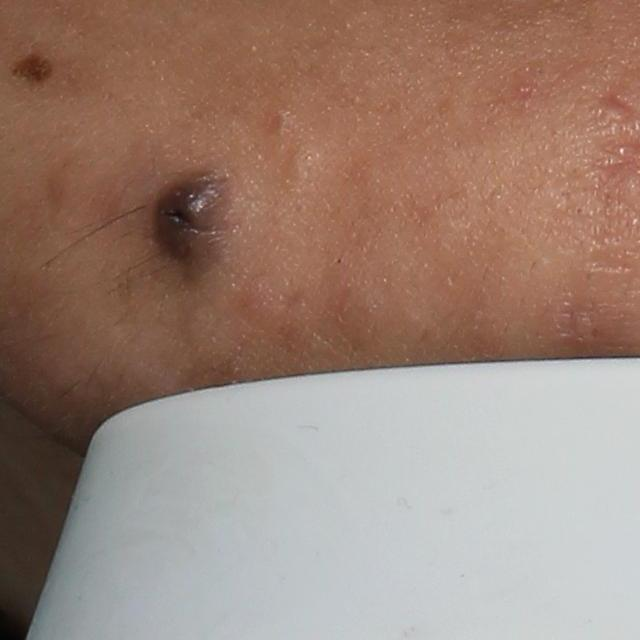nevus: (132, 167, 233, 280), (1, 49, 61, 93)
